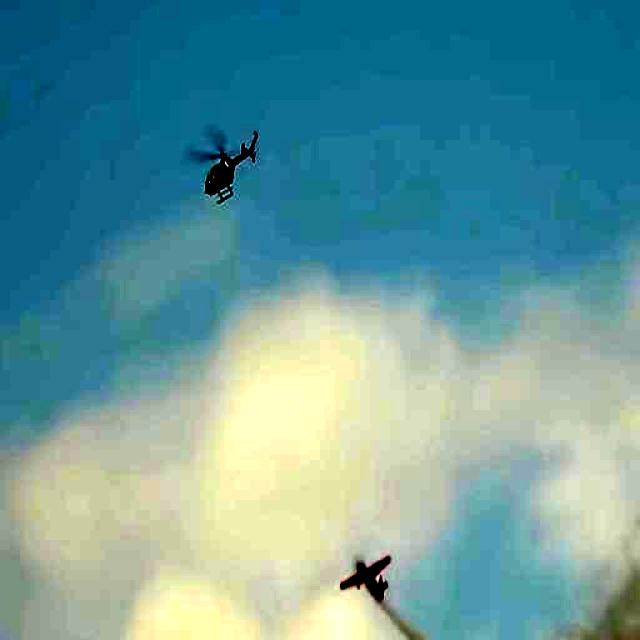drone: (190, 101, 269, 220)
